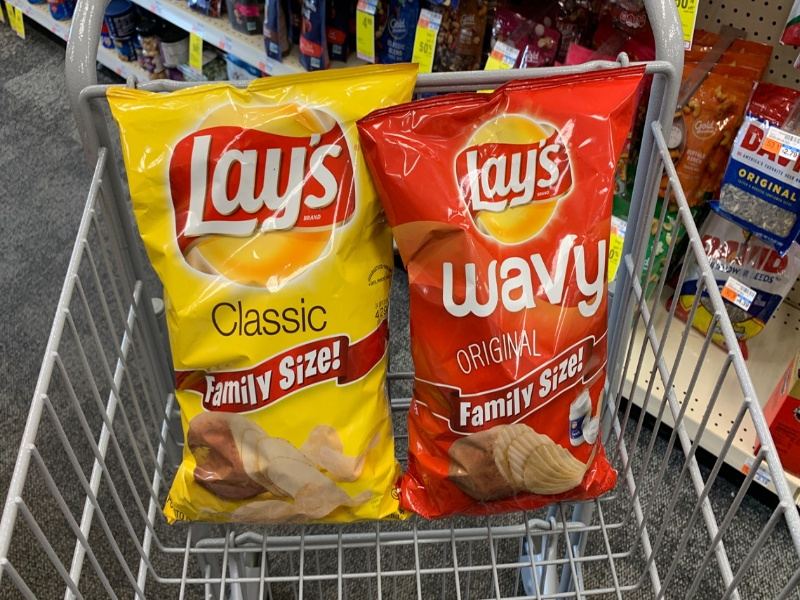lays-large: (120, 89, 400, 518), (403, 62, 638, 524)
